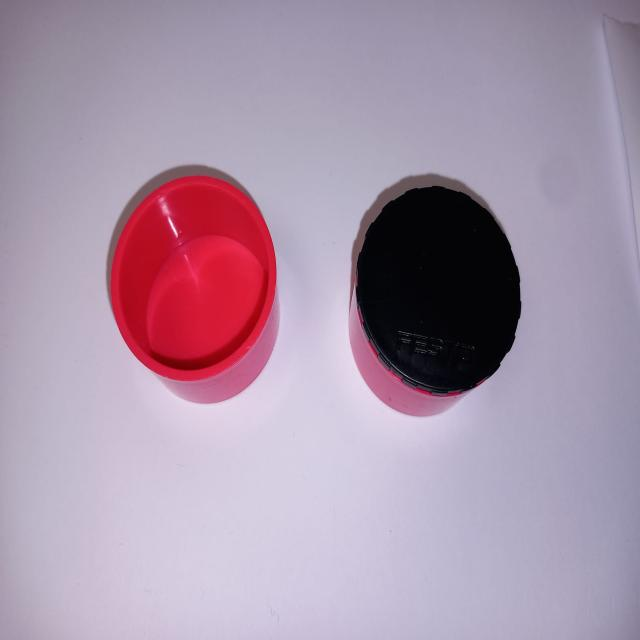NoLid: (92, 161, 300, 411)
Workpiece: (347, 186, 532, 434)
